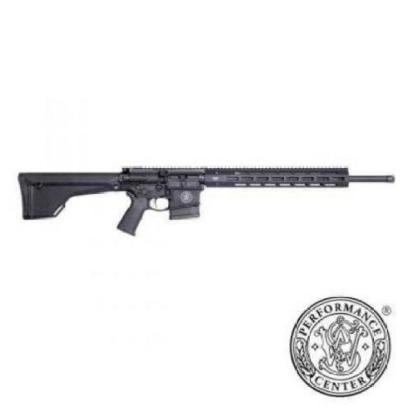Gun: (18, 138, 399, 242)
